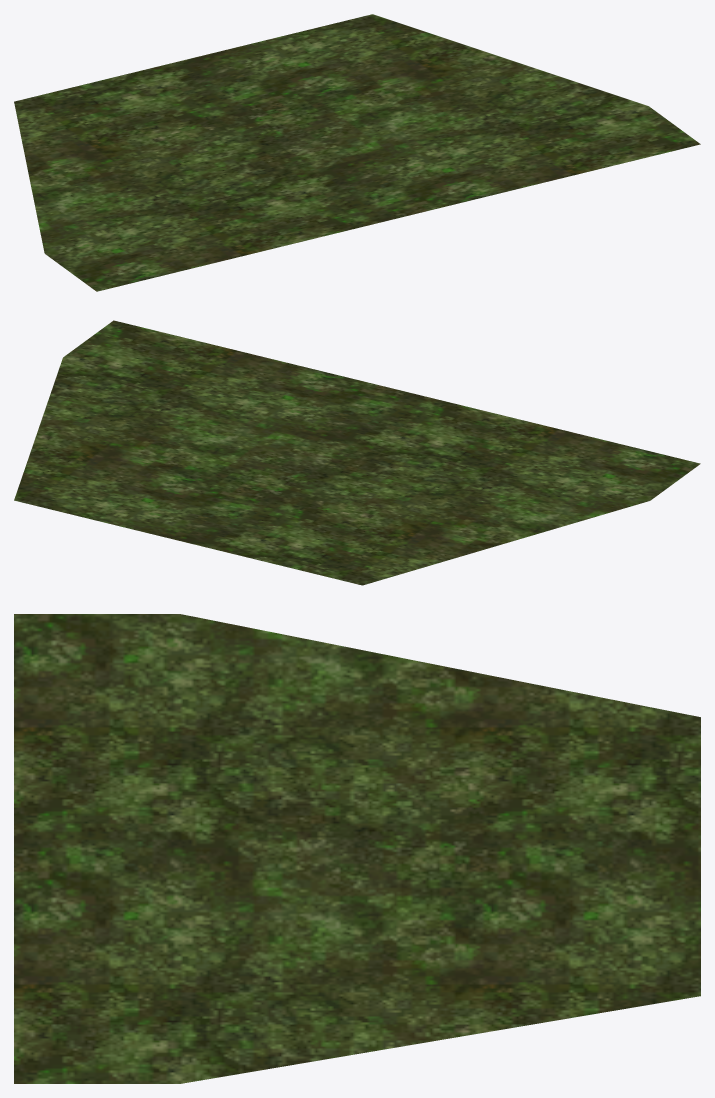
The model's file is OVERHILL_A_01_LINE197.fbx.
3 views of the same model, one above another, from view 1: azimuth 30°, elevation 25°; view 2: azimuth 150°, elevation 25°; view 3: azimuth 270°, elevation 25° (orthographic). The views are drawn at different scales.
Visible parts, largest first — view 1: OVERHILL_A_01_LINE197; view 2: OVERHILL_A_01_LINE197; view 3: OVERHILL_A_01_LINE197.
Boxes of the visible parts, x1=… form: OVERHILL_A_01_LINE197: x1=14, y1=14, x2=700, y2=291; OVERHILL_A_01_LINE197: x1=14, y1=320, x2=700, y2=585; OVERHILL_A_01_LINE197: x1=14, y1=614, x2=700, y2=1083.
Size of the model in its own units: 53508 by 0.0298 by 33055.
Materials: 1 (1 with a texture image).
